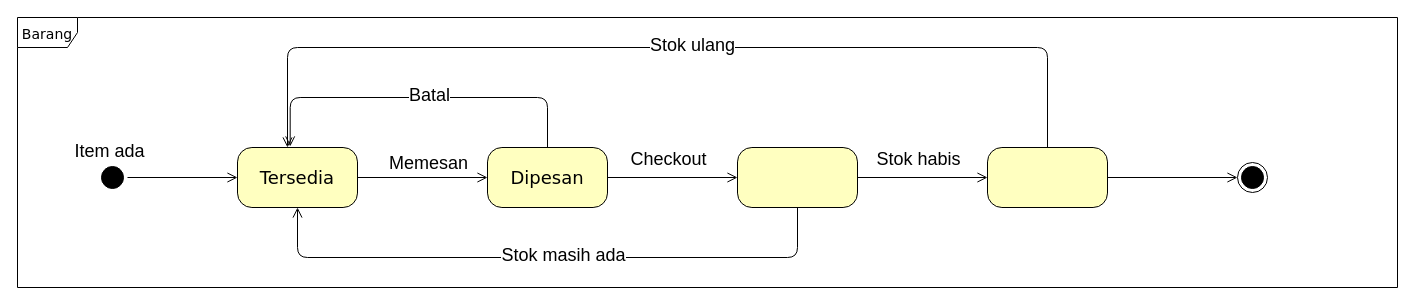
This 1415x305 diagram has some shape labels left out. Here are the shapes that lost their labels. From the top down, the box of each, then its label:
(736, 146, 858, 208): Terjual
(986, 146, 1108, 208): Tidak tersedia
